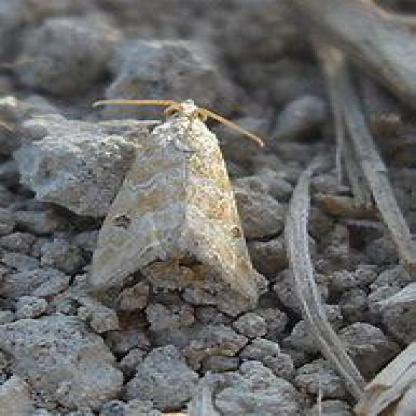Hellula undalis: (84, 89, 276, 306)
